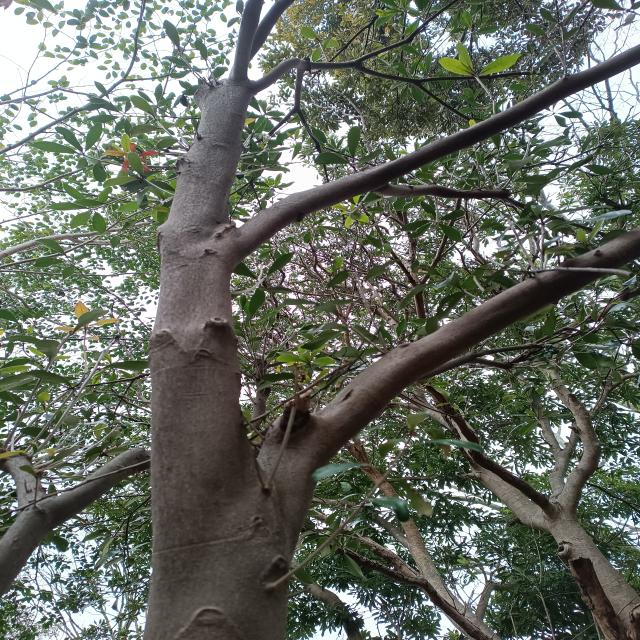Branch: (313, 231, 638, 451), (232, 164, 408, 260)
Twig: (372, 46, 640, 181), (257, 0, 456, 91), (373, 184, 525, 209), (228, 0, 264, 78), (251, 0, 295, 62), (422, 85, 467, 119), (418, 75, 475, 84), (480, 71, 532, 80), (628, 59, 640, 68), (633, 50, 640, 55)
